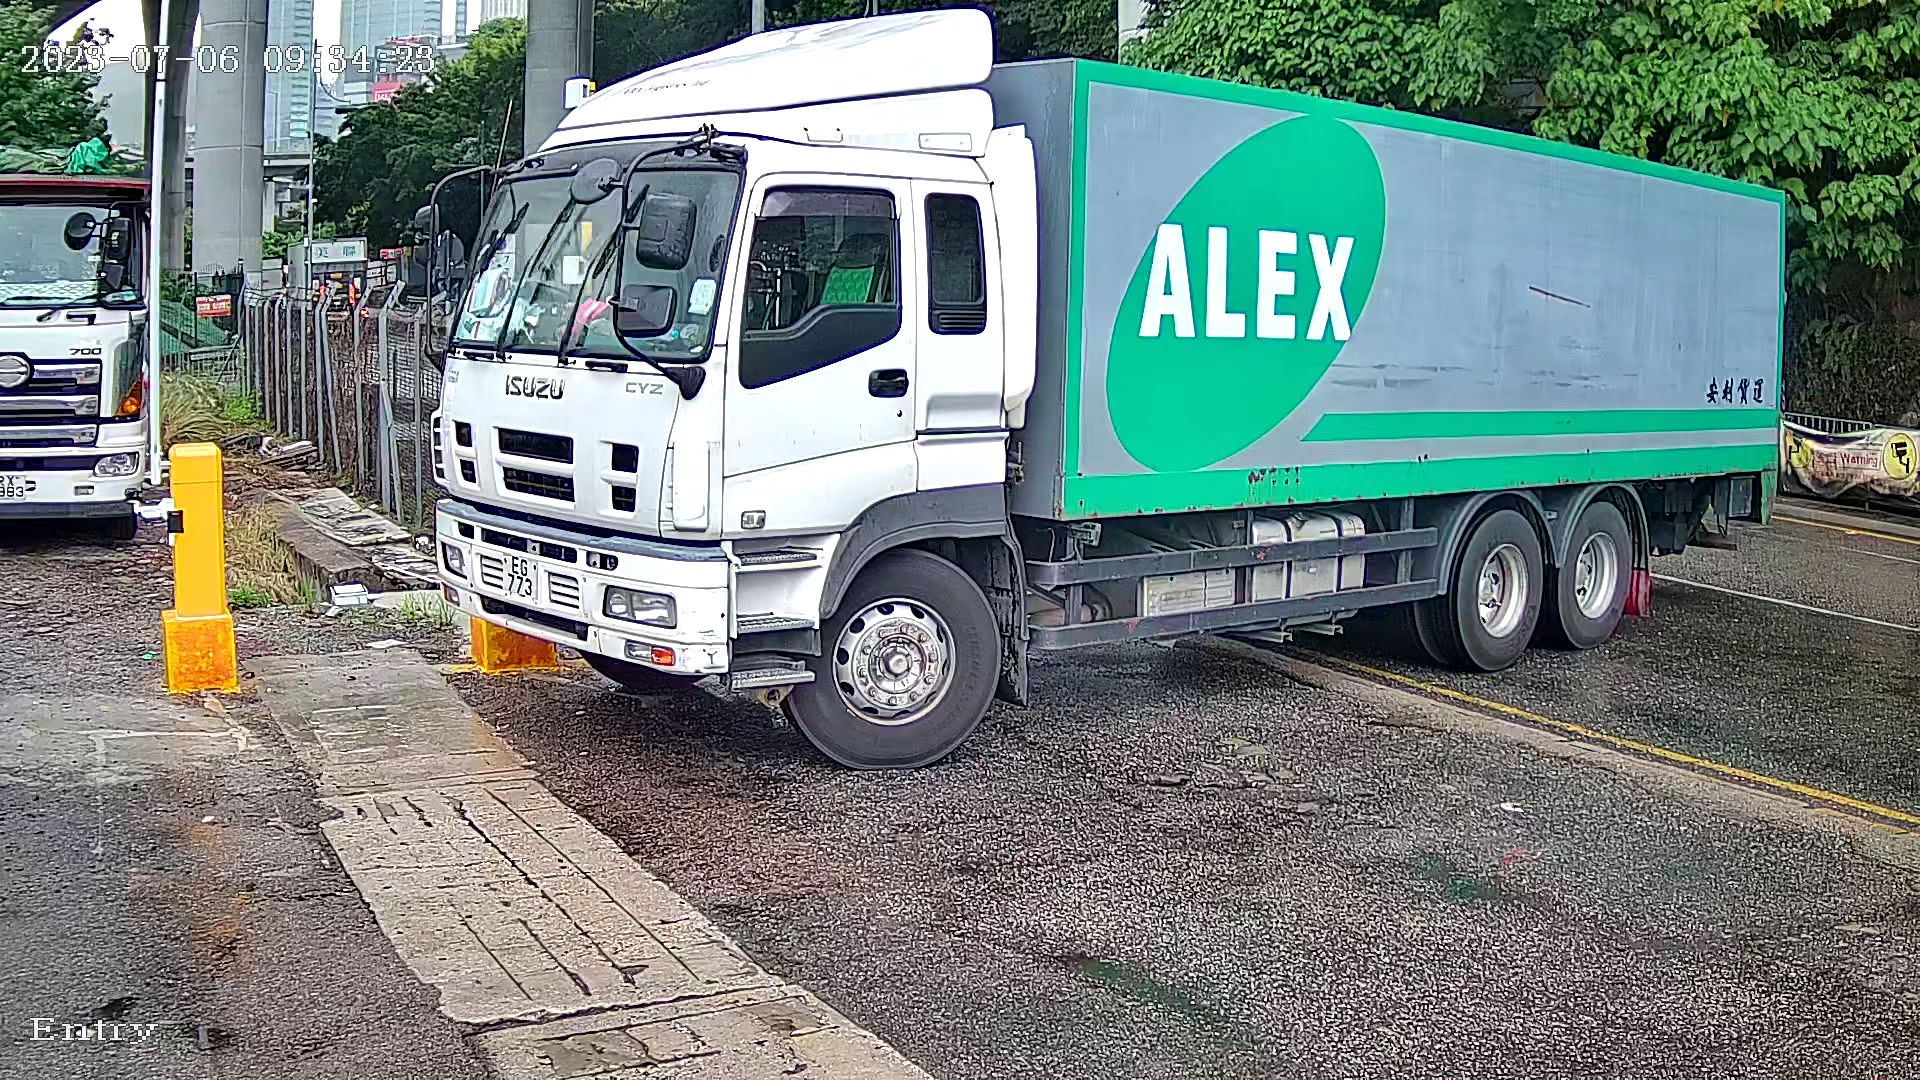truck_large: (409, 1, 1809, 775)
